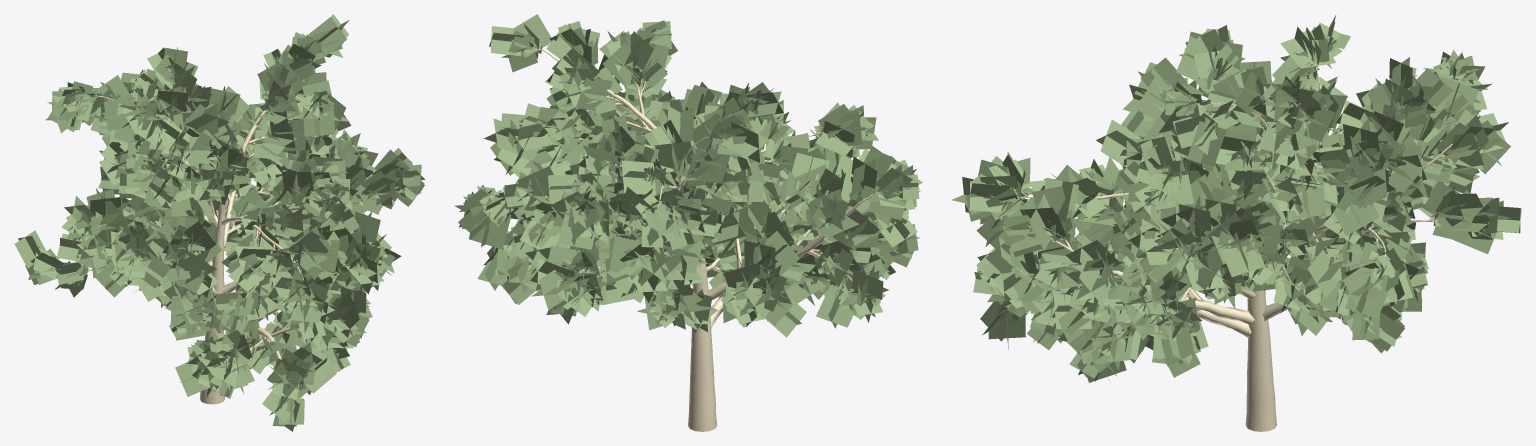
Rendered from oak.glb.
The picture shows the model from 3 angles, left to right: view 1: azimuth 30°, elevation 25°; view 2: azimuth 150°, elevation 25°; view 3: azimuth 270°, elevation 25°; orthographic projection. The views are drawn at different scales.
Visible parts, largest first — view 1: leaves, branches; view 2: leaves, branches; view 3: leaves, branches.
Boxes of the visible parts, x1,y1,x2,y2 form: leaves: (14,14,424,431); branches: (78,90,366,404); leaves: (454,14,922,337); branches: (488,47,881,431); leaves: (951,14,1521,382); branches: (1017,61,1452,431).
Size of the model in its own units: 94.77 by 87.31 by 109.
